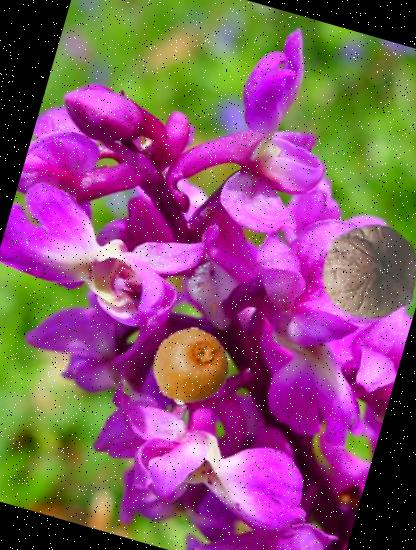Kiwi: (143, 318, 240, 414)
Walnut: (308, 209, 416, 334)
